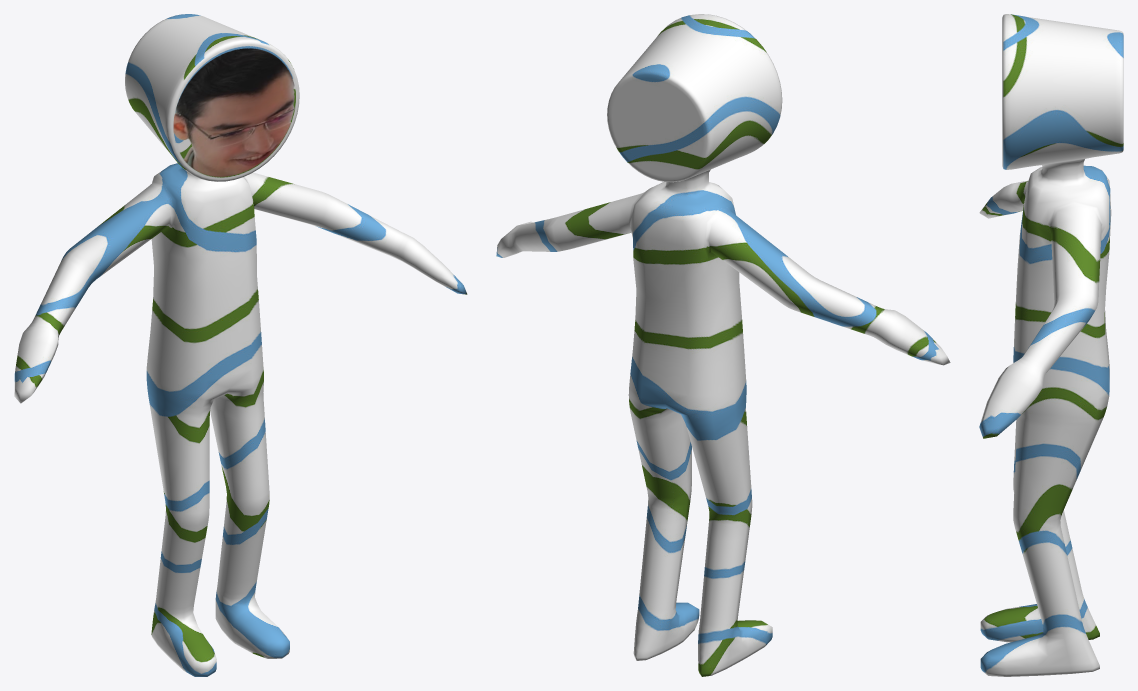
Rendered from KristianMan.glb.
3 views of the same model, side by side, from view 1: azimuth 30°, elevation 25°; view 2: azimuth 150°, elevation 25°; view 3: azimuth 270°, elevation 25° (orthographic). The views are drawn at different scales.
Visible parts, largest first — view 1: Cesium_Man; view 2: Cesium_Man; view 3: Cesium_Man.
Part boxes in pixels (x1,y1,x2,y2): Cesium_Man: (14, 14, 467, 676); Cesium_Man: (496, 14, 950, 676); Cesium_Man: (979, 14, 1123, 676).
Size of the model in its own units: 1.14 by 1.51 by 0.312.
1 material, 1 textured.
